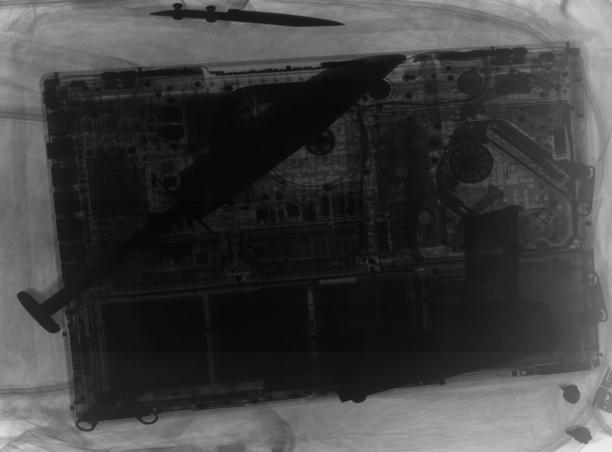Handgun: (330, 202, 555, 408)
Knife: (12, 50, 408, 335)
